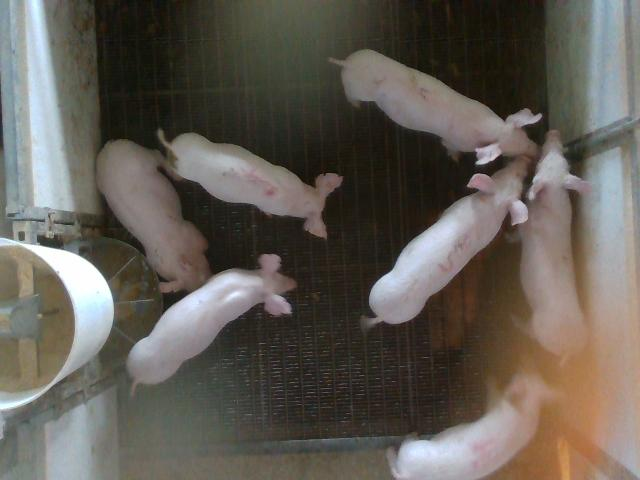pig-3: (361, 156, 530, 329)
pig-4: (386, 361, 556, 479)
pig-5: (158, 131, 342, 237)
